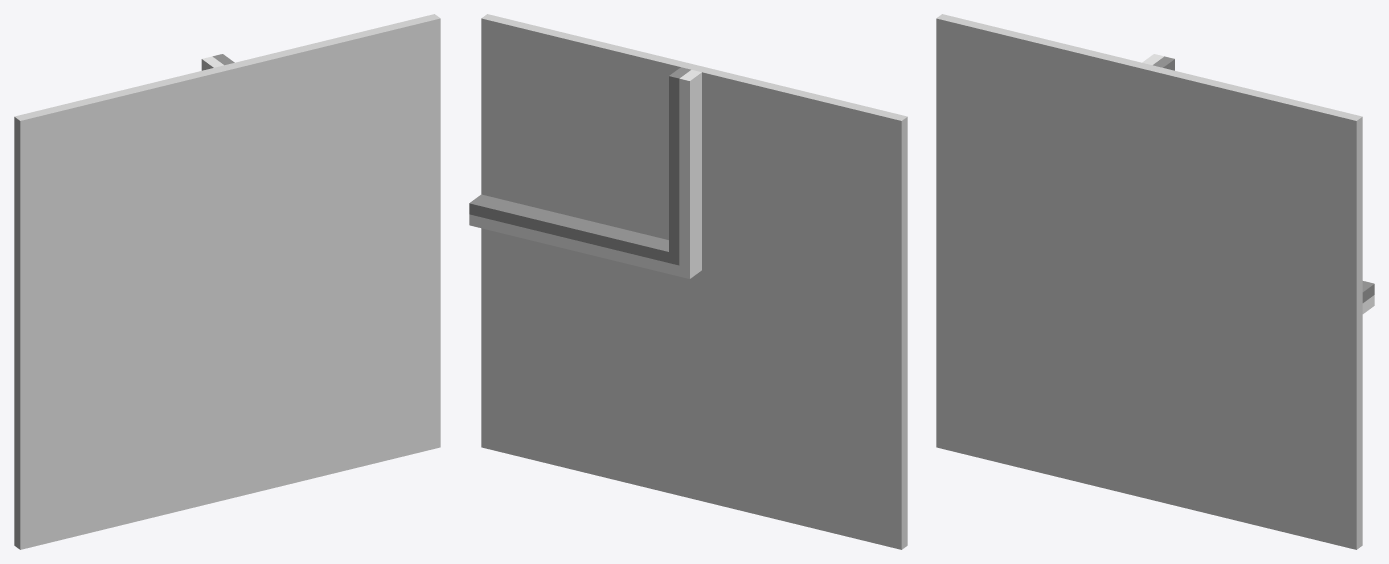
File: wall_light1_wf.obj
3 renders of one model, left to right at view 1: azimuth 30°, elevation 25°; view 2: azimuth 150°, elevation 25°; view 3: azimuth 330°, elevation 25°, orthographic.
Bounding box in the file's own units: 4 × 3.9 × 0.3.
